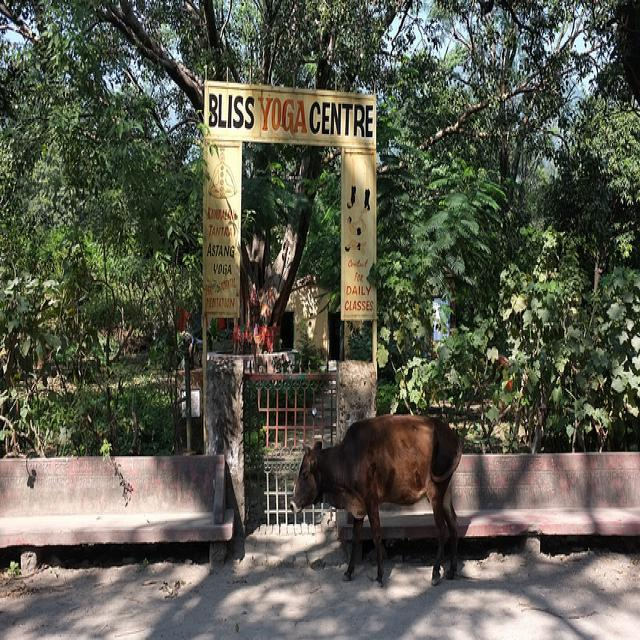cow: (288, 413, 462, 584)
